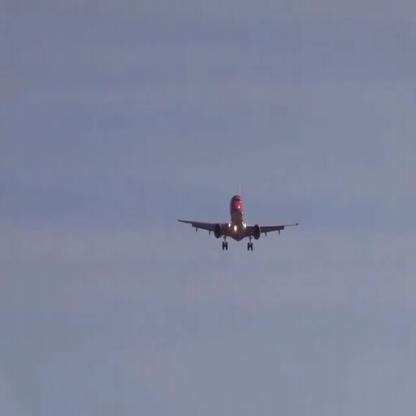CIV_Plane: (178, 176, 301, 251)
